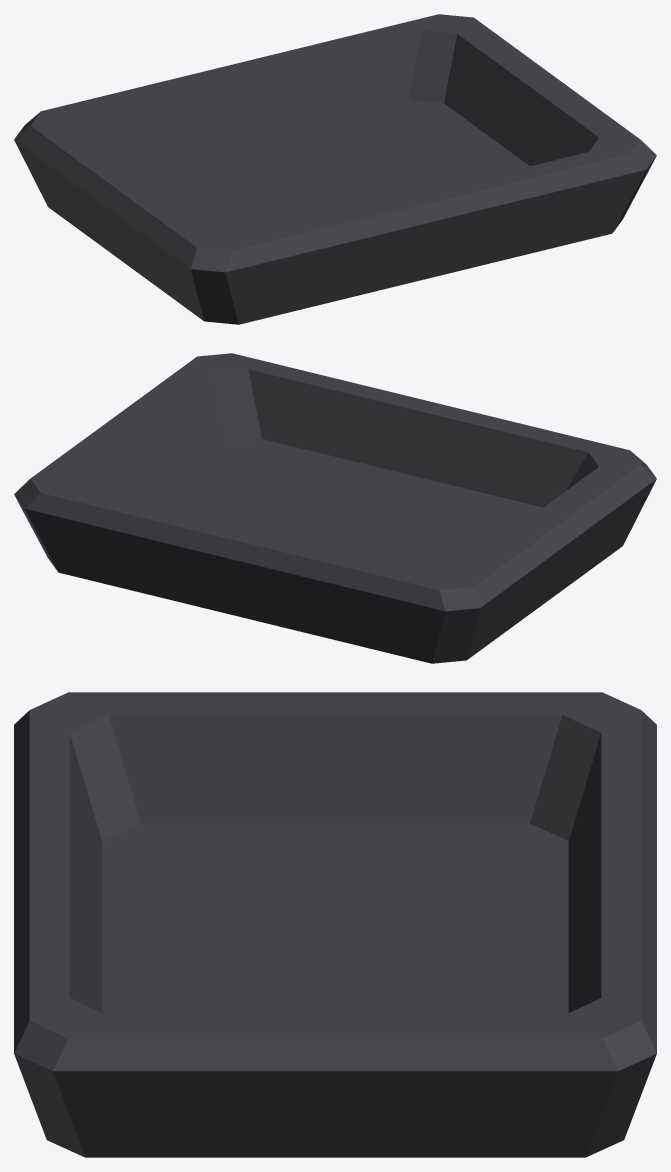
Rendered from Tray.fbx.
The picture shows the model from 3 angles, top to bottom: view 1: azimuth 30°, elevation 25°; view 2: azimuth 150°, elevation 25°; view 3: azimuth 270°, elevation 25°; orthographic projection. The views are drawn at different scales.
Parts seen in each view (by area): view 1: Tray; view 2: Tray; view 3: Tray.
Boxes of the visible parts, x1,y1,x2,y2 form: Tray: [14, 14, 656, 324]; Tray: [14, 353, 656, 663]; Tray: [14, 692, 656, 1157].
Size of the model in its own units: 52.26 by 8.62 by 39.
